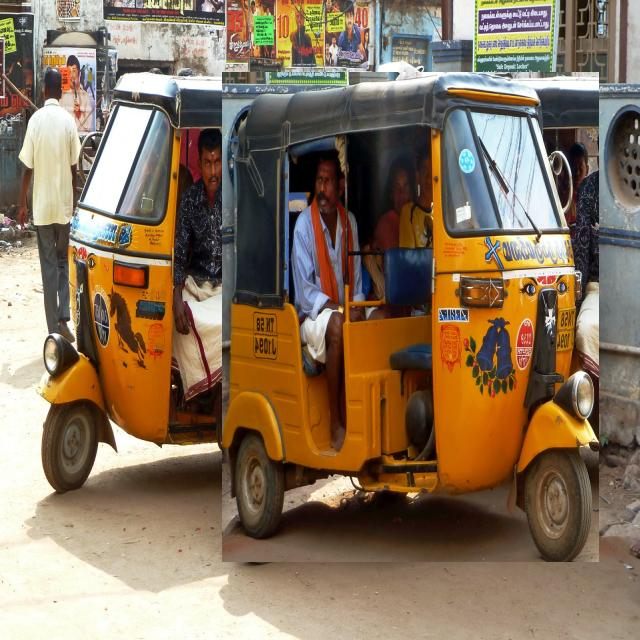autorickshaw: (222, 72, 599, 562), (41, 77, 281, 491)
